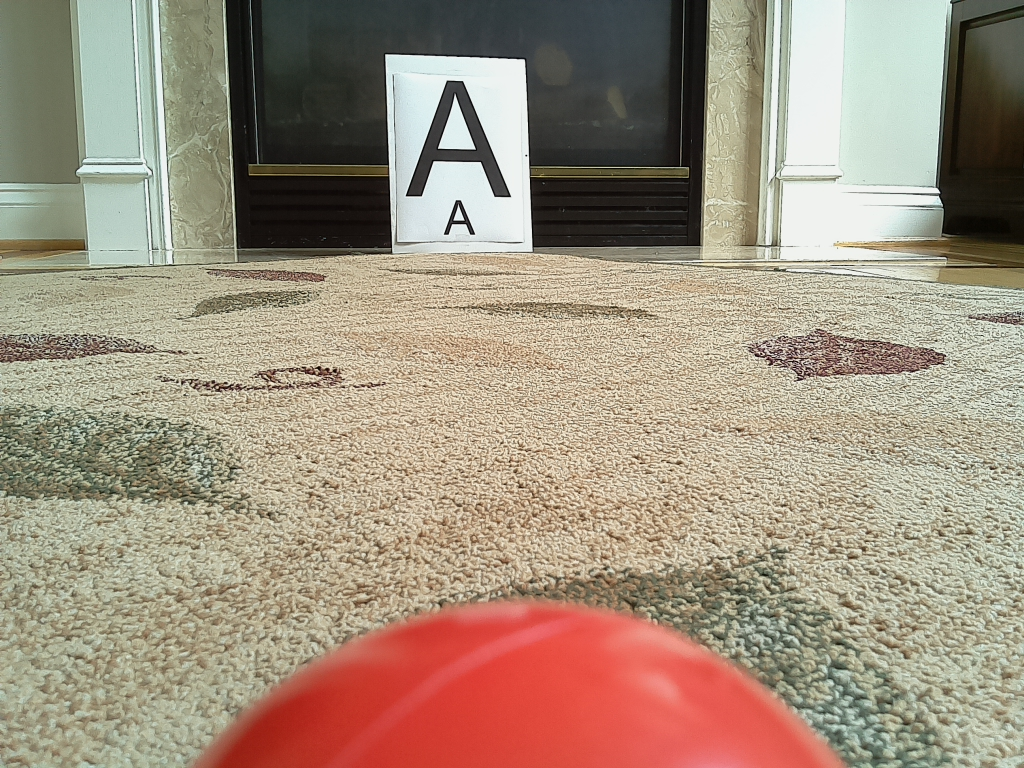letter: (405, 79, 514, 198)
